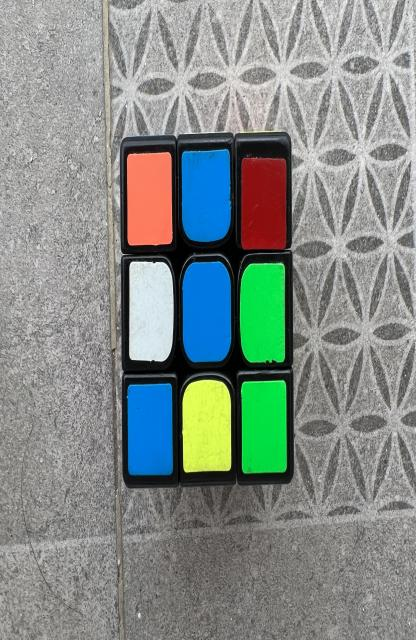Blue: (183, 262, 232, 362), (181, 150, 231, 242), (128, 383, 173, 475)
Green: (240, 263, 285, 363), (241, 380, 287, 473)
Orange: (127, 152, 172, 245)
Red: (241, 158, 286, 250)
White: (129, 262, 174, 362)
Yellow: (182, 380, 232, 473)
